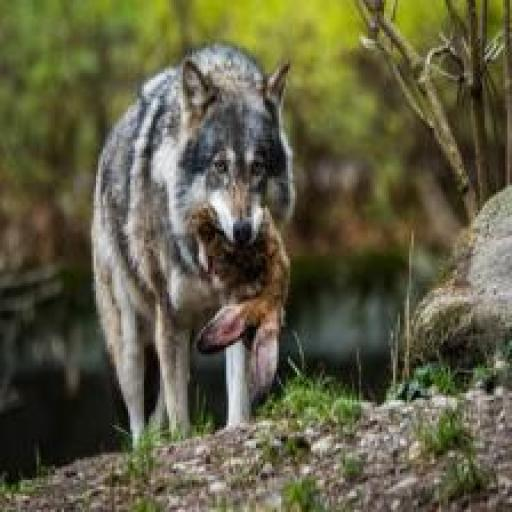wolf: (55, 4, 359, 463)
